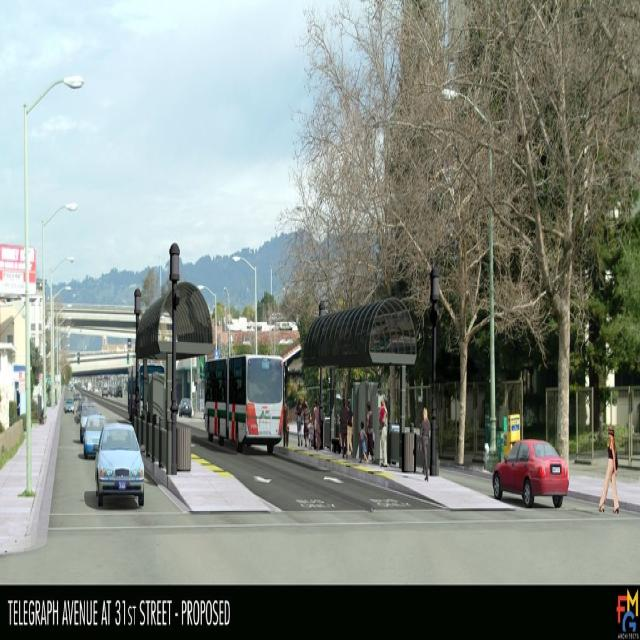car: (84, 407, 144, 503), (491, 436, 568, 507)
